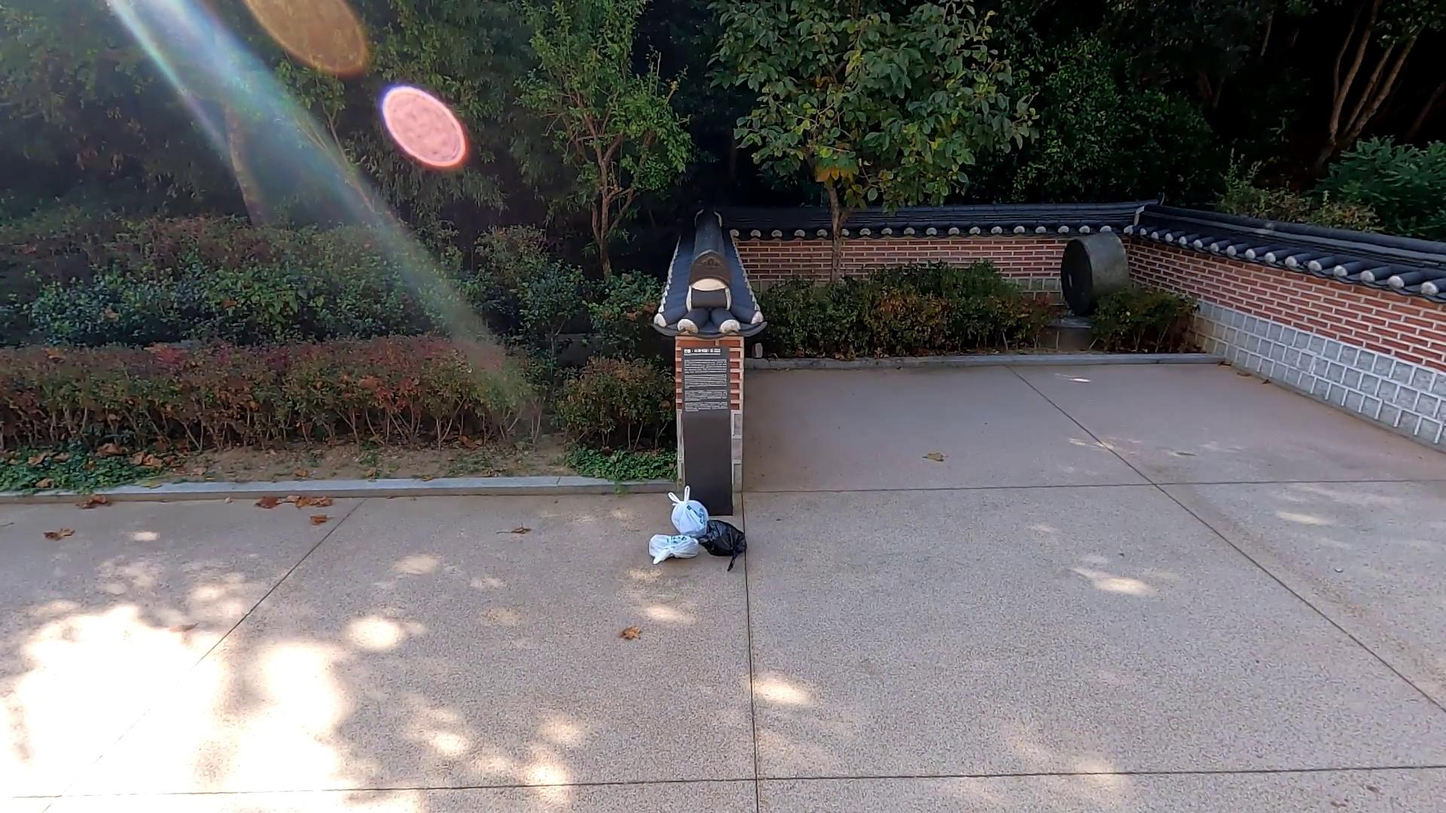trash: (694, 516, 749, 571), (667, 481, 708, 538), (645, 531, 701, 564)
